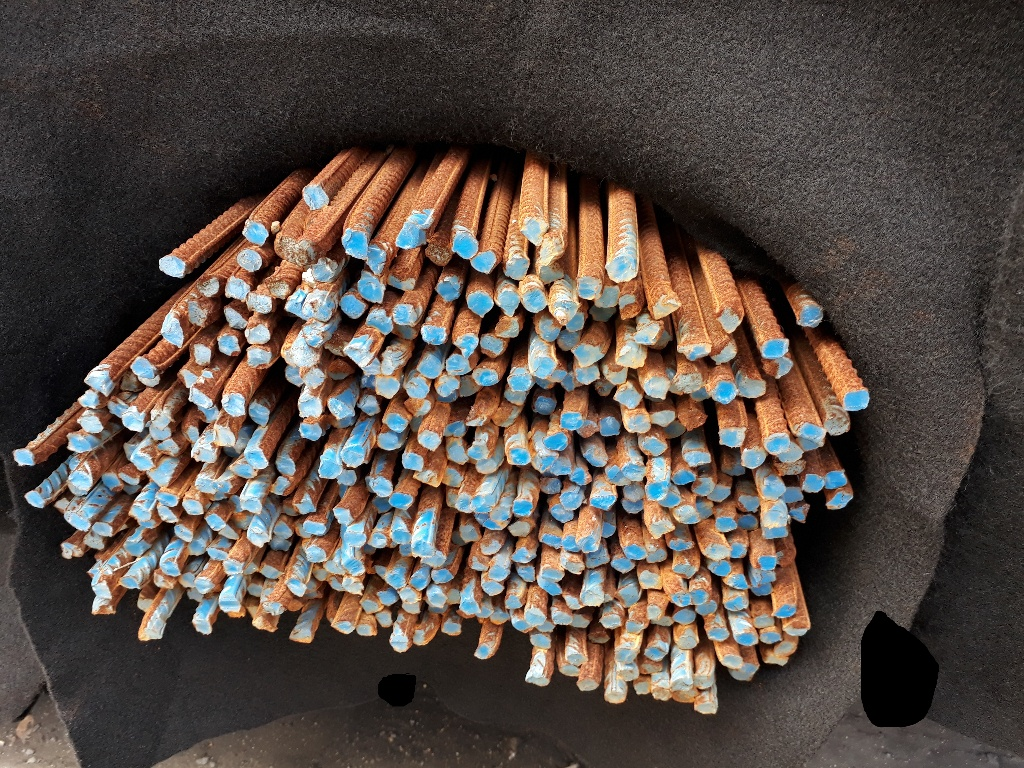dipstick: (301, 318, 338, 349), (468, 388, 496, 427), (301, 291, 337, 321), (354, 270, 386, 303), (146, 455, 179, 487), (424, 233, 454, 268), (760, 508, 791, 541), (489, 401, 525, 429), (345, 334, 375, 367), (649, 292, 682, 321), (283, 288, 312, 321), (342, 229, 371, 261), (606, 252, 637, 281), (757, 473, 788, 502), (519, 283, 548, 314), (794, 421, 828, 447), (365, 306, 394, 336), (681, 438, 712, 466), (633, 320, 666, 346), (539, 231, 564, 265), (395, 222, 425, 250), (300, 184, 331, 211), (736, 370, 767, 397), (464, 290, 495, 317), (612, 382, 644, 408), (161, 314, 187, 346), (365, 241, 390, 274), (571, 342, 604, 367), (187, 296, 212, 329), (519, 217, 547, 246), (716, 304, 744, 333), (450, 329, 479, 357), (291, 342, 321, 369), (676, 341, 711, 364), (676, 407, 708, 432), (339, 292, 368, 319), (403, 370, 430, 399), (548, 300, 578, 326), (323, 330, 353, 356), (386, 266, 417, 291), (418, 322, 449, 347), (709, 338, 738, 364), (495, 287, 521, 316), (63, 508, 93, 533), (576, 274, 603, 301), (417, 349, 444, 376), (309, 256, 336, 283), (710, 379, 738, 405), (380, 347, 406, 375), (529, 353, 558, 378), (616, 345, 646, 369), (241, 221, 268, 247), (434, 278, 462, 303), (390, 301, 418, 326), (593, 285, 622, 309), (470, 251, 499, 275), (478, 333, 507, 357), (326, 394, 355, 418), (443, 436, 467, 465), (761, 338, 794, 359), (717, 426, 747, 449), (156, 256, 186, 279), (247, 517, 270, 547), (388, 623, 411, 653), (762, 357, 793, 379), (452, 232, 478, 258), (797, 303, 823, 329), (223, 304, 249, 330), (504, 256, 531, 281), (434, 370, 459, 397), (275, 236, 300, 263), (245, 345, 272, 370), (297, 392, 324, 417), (601, 360, 629, 384), (293, 239, 317, 267), (672, 372, 703, 393), (643, 376, 669, 401), (224, 276, 250, 301), (342, 443, 367, 469), (558, 485, 583, 511), (584, 543, 610, 568), (220, 392, 246, 417), (672, 677, 697, 703), (741, 446, 768, 470), (617, 293, 641, 320), (187, 342, 214, 366), (562, 389, 589, 413), (416, 428, 443, 452), (764, 433, 792, 456), (355, 392, 383, 415), (533, 263, 565, 283), (824, 488, 853, 510), (572, 363, 601, 385), (382, 410, 411, 432), (646, 515, 675, 537), (76, 411, 105, 433), (672, 505, 702, 526), (532, 449, 557, 474), (537, 315, 561, 341), (496, 316, 522, 340), (237, 249, 263, 273), (301, 364, 325, 390), (400, 449, 426, 473), (67, 470, 91, 496), (451, 524, 479, 546), (769, 458, 805, 475), (623, 412, 652, 433), (446, 354, 475, 375), (376, 429, 405, 450), (403, 394, 432, 415), (508, 368, 533, 392), (212, 423, 237, 447), (644, 638, 669, 662), (675, 625, 700, 649), (244, 447, 270, 470), (672, 557, 699, 579), (91, 572, 113, 599), (471, 366, 499, 387), (589, 491, 617, 512), (85, 375, 113, 396), (229, 457, 258, 477), (731, 661, 760, 681), (647, 410, 679, 428), (598, 414, 623, 437), (266, 278, 292, 300), (466, 438, 492, 460), (188, 386, 214, 408), (152, 567, 178, 589), (297, 420, 324, 441), (325, 548, 346, 575), (614, 643, 641, 664), (196, 274, 220, 297), (646, 478, 669, 502), (285, 576, 309, 599), (455, 374, 480, 396), (641, 436, 666, 458), (584, 446, 609, 468), (844, 390, 870, 411), (507, 447, 533, 468), (611, 553, 637, 574), (249, 400, 270, 426), (92, 596, 118, 617), (825, 415, 852, 435), (559, 410, 586, 430), (542, 432, 569, 452), (549, 501, 576, 521), (559, 555, 586, 575), (66, 432, 93, 452), (503, 388, 531, 407), (549, 454, 572, 477), (426, 584, 449, 607), (824, 468, 848, 490), (217, 334, 241, 356), (82, 529, 106, 551), (155, 502, 179, 524), (531, 395, 556, 416), (738, 492, 763, 513), (130, 355, 155, 376), (194, 402, 219, 423), (117, 464, 142, 485), (270, 475, 295, 496), (290, 623, 315, 644), (342, 554, 367, 575), (376, 585, 401, 606), (413, 469, 442, 487), (557, 329, 583, 349), (690, 476, 716, 496), (638, 570, 664, 590), (187, 531, 207, 557), (262, 597, 288, 617), (537, 578, 564, 597), (341, 574, 364, 596), (384, 567, 406, 590), (659, 420, 687, 438), (569, 466, 593, 487), (129, 452, 157, 470), (723, 593, 751, 611), (592, 373, 612, 398), (245, 324, 270, 344), (606, 465, 631, 485), (218, 593, 243, 613), (794, 437, 827, 452), (291, 496, 317, 515), (615, 662, 641, 681), (326, 360, 355, 377), (135, 626, 164, 643), (620, 462, 647, 480), (706, 559, 733, 577), (190, 444, 217, 462), (251, 614, 278, 632), (659, 485, 681, 507), (275, 454, 297, 476), (538, 474, 561, 495), (370, 476, 393, 497), (122, 411, 145, 432), (149, 420, 172, 441), (160, 556, 183, 577), (246, 293, 270, 313), (749, 569, 779, 585), (721, 573, 751, 589), (11, 447, 35, 467), (128, 503, 152, 523), (238, 493, 262, 513), (522, 607, 546, 627), (551, 605, 575, 625), (622, 543, 647, 562), (399, 585, 424, 604), (671, 467, 697, 485), (706, 484, 732, 502), (191, 617, 217, 635), (259, 562, 285, 580), (579, 588, 605, 606), (603, 686, 629, 704), (419, 551, 448, 567), (802, 473, 824, 494), (645, 542, 667, 563), (101, 471, 123, 492), (409, 570, 431, 591), (651, 681, 673, 702), (283, 365, 303, 388), (577, 534, 600, 554), (332, 505, 355, 525), (388, 493, 415, 510), (214, 478, 241, 495), (525, 670, 552, 687), (576, 419, 600, 438), (714, 514, 739, 532), (318, 460, 343, 478), (430, 567, 455, 585), (703, 543, 731, 559), (783, 619, 811, 635), (441, 419, 467, 436), (508, 520, 534, 537), (443, 466, 464, 487), (560, 589, 581, 610), (623, 483, 645, 503), (514, 563, 536, 583), (602, 609, 624, 629), (539, 531, 562, 550), (344, 530, 367, 549), (182, 498, 205, 517), (631, 675, 654, 694), (668, 536, 695, 552), (23, 490, 47, 508), (773, 638, 797, 656), (718, 652, 743, 669), (737, 511, 758, 531), (177, 368, 198, 388), (473, 494, 494, 514), (150, 410, 170, 431), (173, 522, 194, 542), (769, 604, 797, 619), (788, 505, 811, 523), (304, 545, 327, 563), (91, 520, 114, 538), (588, 626, 611, 644), (60, 541, 84, 558), (458, 599, 482, 616), (509, 546, 534, 562), (293, 518, 313, 538), (375, 608, 395, 628), (480, 579, 505, 595), (564, 313, 585, 332), (78, 390, 99, 409), (195, 475, 216, 494), (475, 457, 497, 475), (204, 513, 226, 531), (361, 597, 383, 615), (412, 624, 429, 647), (487, 565, 510, 582), (540, 566, 566, 581), (412, 542, 438, 557), (620, 498, 644, 514), (156, 491, 180, 507), (205, 545, 229, 561), (331, 620, 355, 636), (478, 537, 502, 553), (764, 650, 788, 666), (124, 538, 143, 558), (327, 573, 347, 592), (358, 371, 379, 389), (513, 498, 534, 516), (336, 469, 357, 487), (569, 611, 590, 629), (222, 558, 244, 575), (673, 607, 695, 624), (709, 626, 731, 643), (641, 657, 664, 673), (696, 699, 719, 715), (694, 500, 713, 519), (194, 575, 213, 594), (456, 493, 474, 513), (400, 601, 424, 616), (490, 607, 510, 625), (689, 587, 709, 605), (754, 613, 778, 628), (776, 549, 797, 566), (368, 531, 389, 548), (444, 588, 465, 605), (467, 555, 488, 572), (783, 486, 805, 502), (391, 528, 413, 544), (442, 622, 464, 638), (753, 556, 778, 570), (302, 520, 327, 534), (119, 575, 142, 590), (531, 634, 554, 649), (577, 676, 600, 691), (473, 642, 491, 661), (310, 563, 329, 581), (644, 603, 662, 622), (670, 588, 689, 606), (625, 619, 645, 636), (135, 374, 161, 387), (749, 582, 775, 595), (560, 664, 584, 678), (696, 600, 717, 616), (737, 631, 758, 647), (275, 521, 293, 539), (729, 541, 746, 560), (562, 536, 581, 553), (373, 562, 390, 581), (475, 602, 494, 619), (444, 487, 460, 507), (123, 441, 139, 461), (504, 594, 524, 610), (535, 618, 557, 632), (285, 596, 304, 612), (762, 628, 781, 644), (356, 622, 376, 637), (183, 425, 200, 442), (53, 497, 70, 514), (178, 572, 196, 588), (136, 598, 157, 611), (567, 652, 588, 665), (601, 521, 617, 538), (399, 541, 415, 558), (247, 581, 263, 596), (245, 560, 259, 576), (695, 675, 713, 687)
